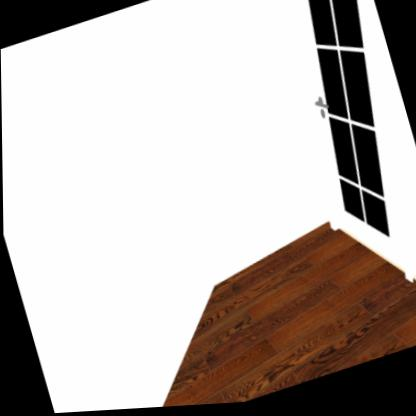Wooden floor: (160, 227, 416, 409)
